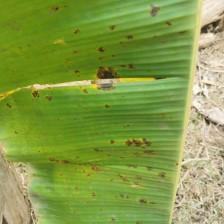pestalotiopsis: (0, 0, 201, 224)
